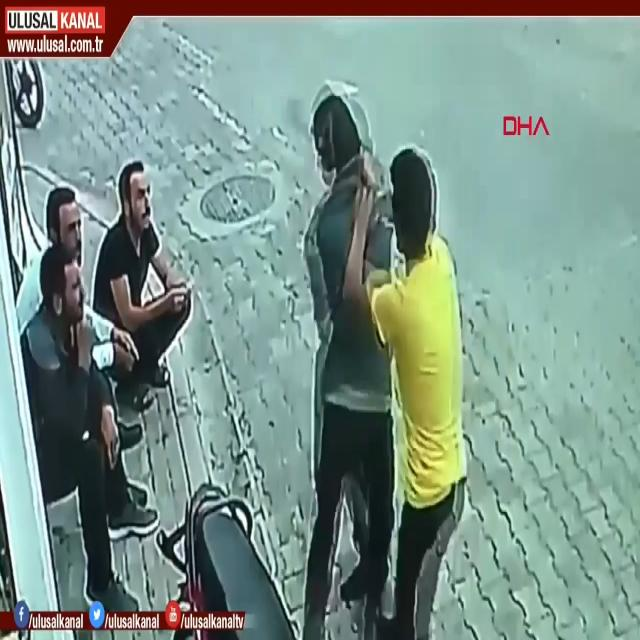fight: (293, 76, 495, 604)
